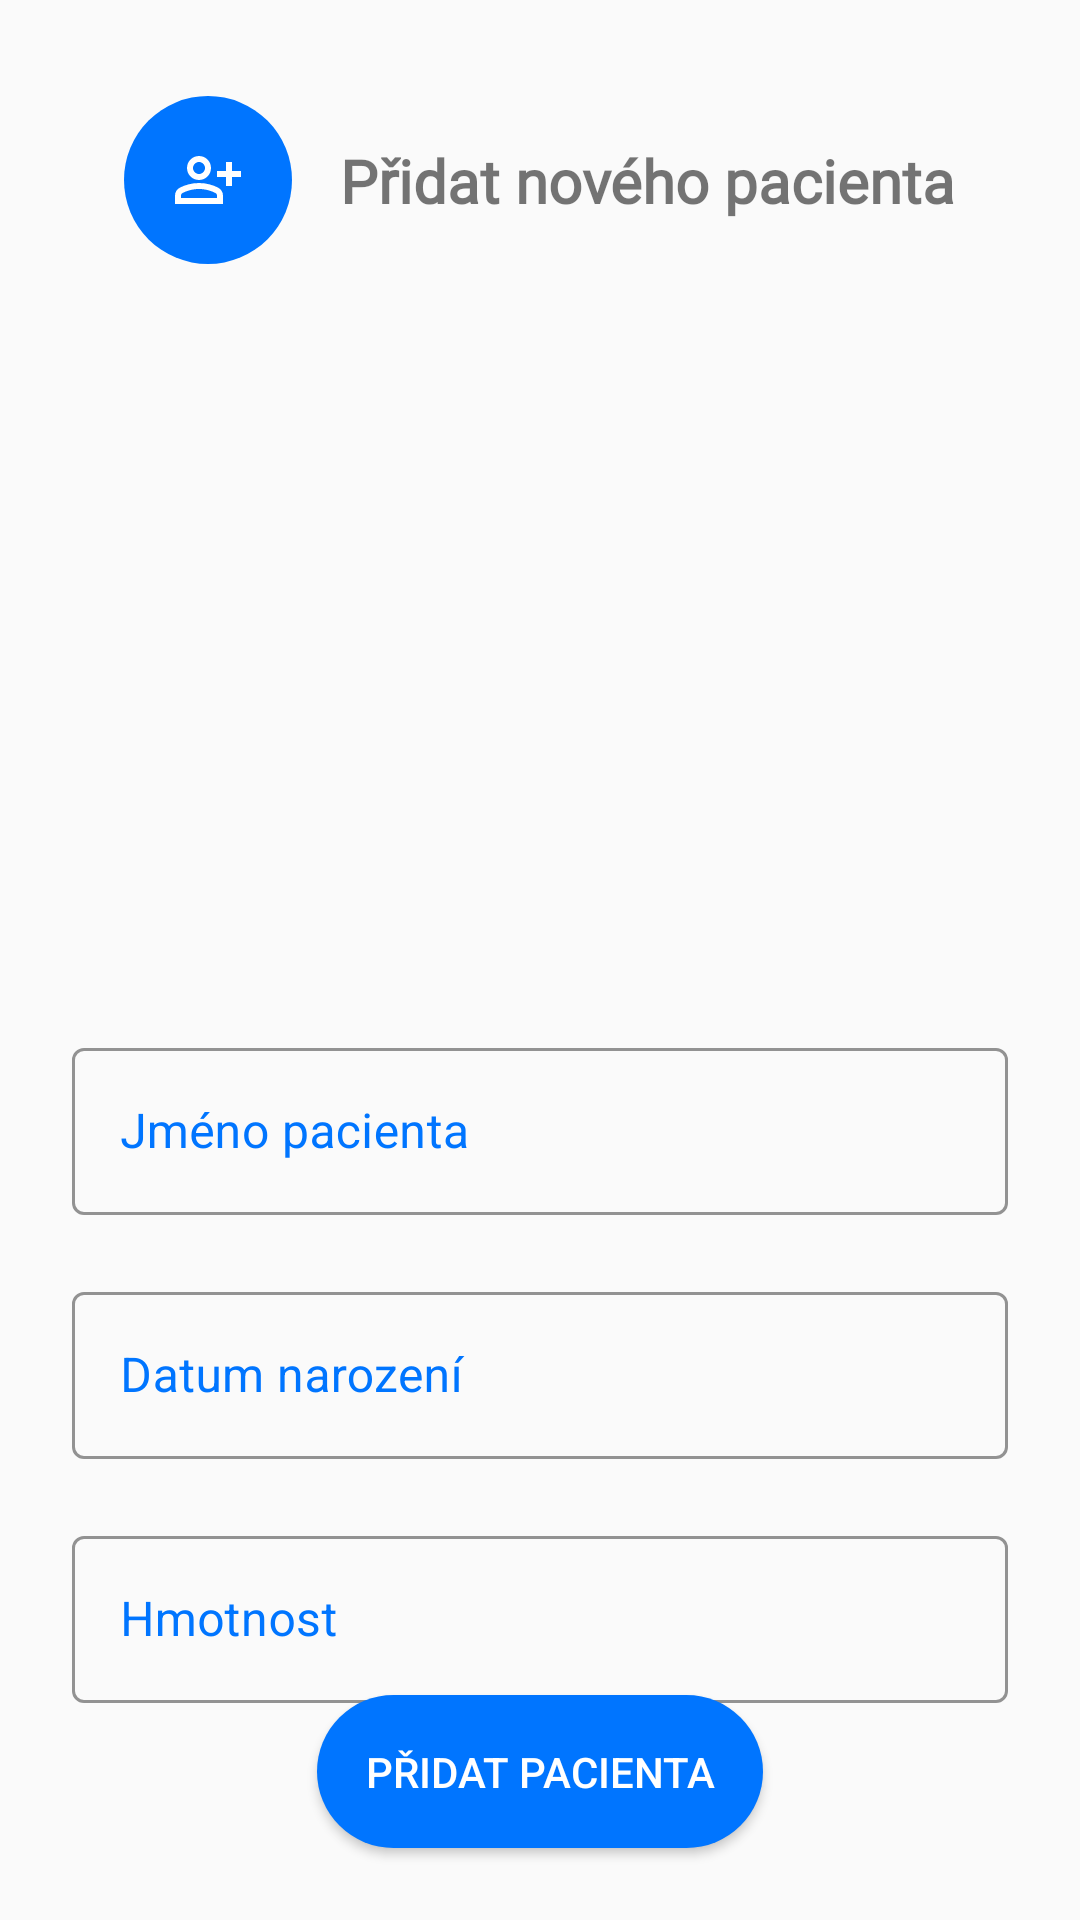

Point at icon controls on the screen. Image size 1080 × 1920, points as [x,y].
person add: [208,180]
